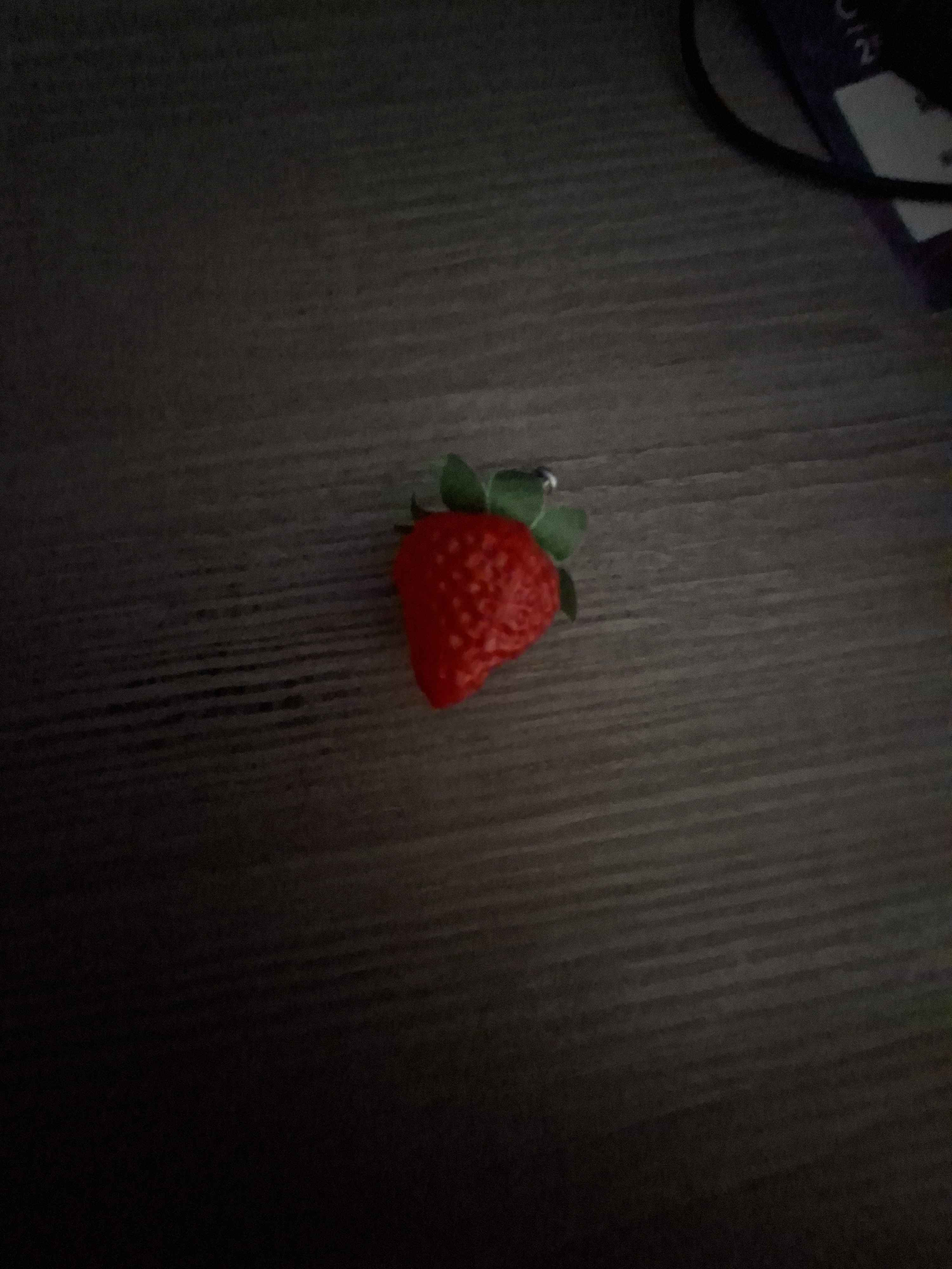Strawberry: (380, 497, 576, 725)
